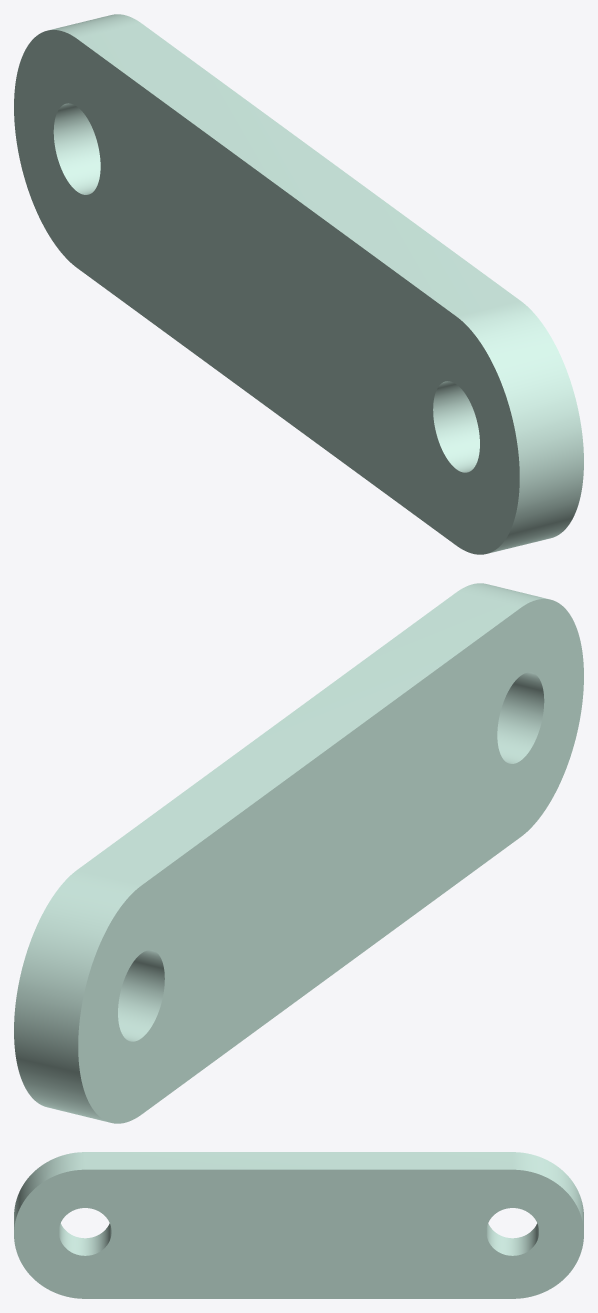
3 views of the same model, one above another, from view 1: azimuth 30°, elevation 25°; view 2: azimuth 150°, elevation 25°; view 3: azimuth 270°, elevation 25° (orthographic). The views are drawn at different scales.
Visible parts, largest first — view 1: Renderer Node; view 2: Renderer Node; view 3: Renderer Node.
Part boxes in pixels (bbox=[...]): Renderer Node: bbox=[14, 14, 583, 554]; Renderer Node: bbox=[14, 583, 583, 1123]; Renderer Node: bbox=[14, 1152, 583, 1298].
Size of the model in its own units: 0.1094 by 0.373 by 1.49.
